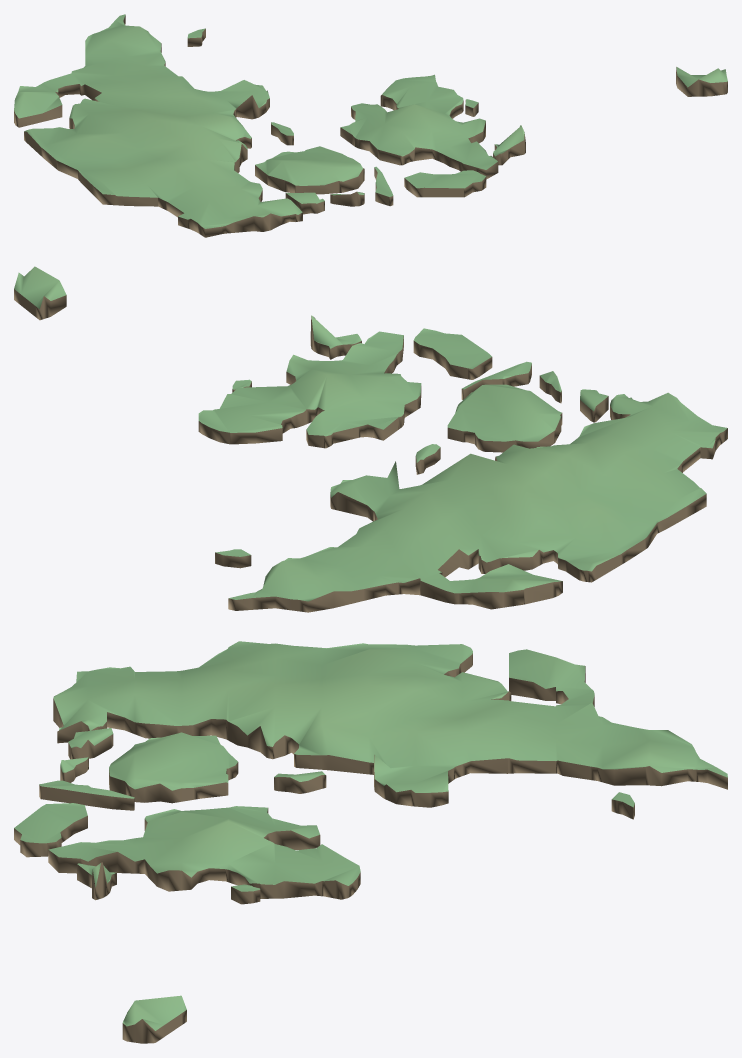
File: DNK.glb
3 views of the same model, one above another, from view 1: azimuth 30°, elevation 25°; view 2: azimuth 150°, elevation 25°; view 3: azimuth 270°, elevation 25° (orthographic). The views are drawn at different scales.
Parts seen in each view (by area): view 1: DNK; view 2: DNK; view 3: DNK.
Boxes of the visible parts, <box> form: DNK: <box>14,14,727,237</box>; DNK: <box>14,266,727,612</box>; DNK: <box>14,641,727,1043</box>.
Bounding box in the file's own units: 1.68 × 0.076 × 1.3.
